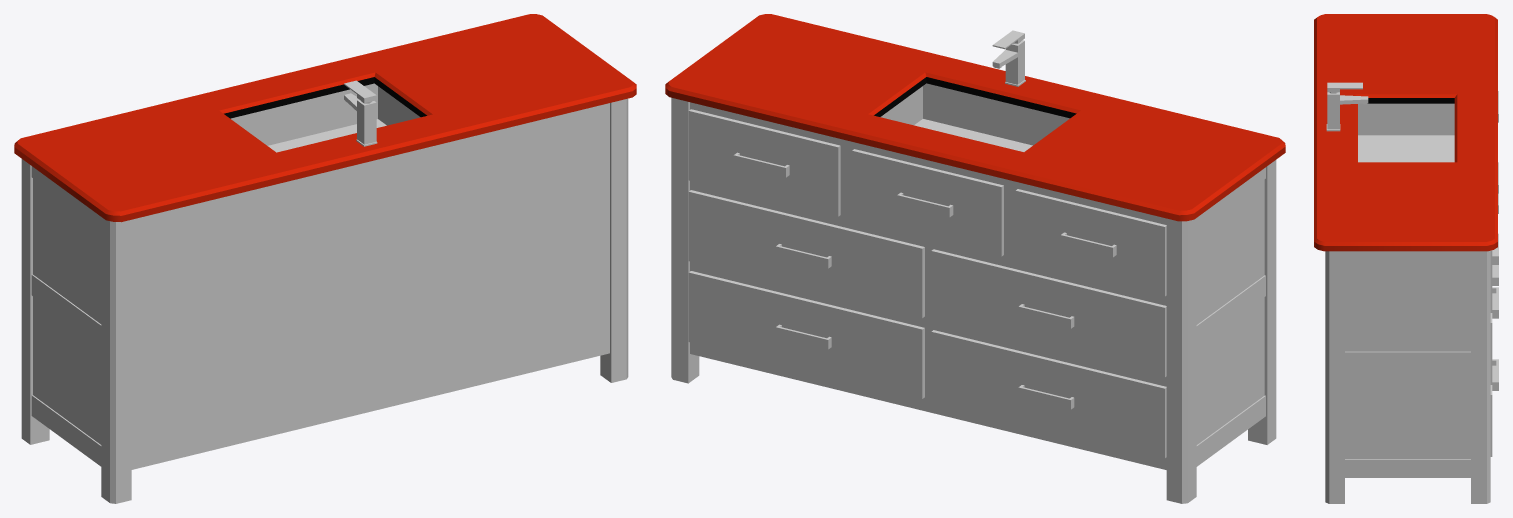
Rendered from sink.fbx.
3 views of the same model, side by side, from view 1: azimuth 30°, elevation 25°; view 2: azimuth 150°, elevation 25°; view 3: azimuth 270°, elevation 25° (orthographic). The views are drawn at different scales.
Parts seen in each view (by area): view 1: Dinner Table.001; view 2: Dinner Table.001; view 3: Dinner Table.001.
Part boxes in pixels (x1,y1,x2,y2): Dinner Table.001: (14,14,636,503); Dinner Table.001: (665,14,1285,503); Dinner Table.001: (1314,14,1498,503).
Size of the model in its own units: 155 by 96.2 by 52.6.
